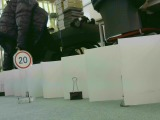speed_20: (12, 50, 33, 70)
